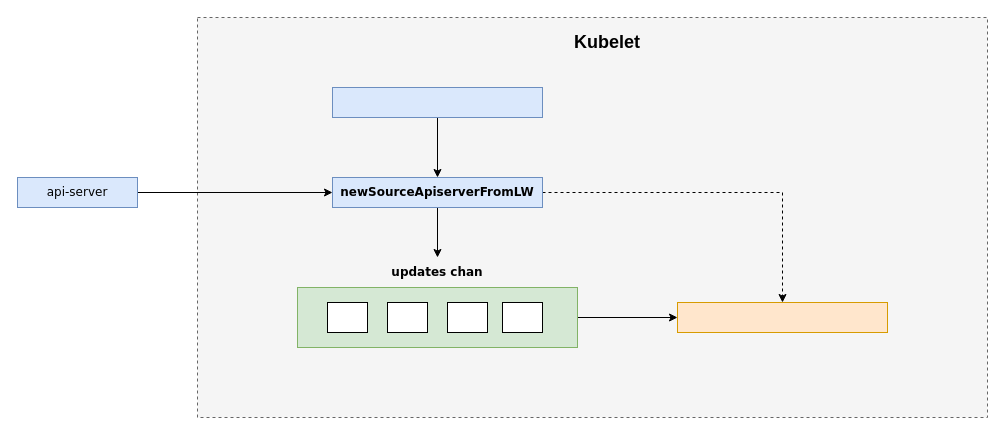
The diagram is 1005 pixels wide and 435 high, and some of its shapes have lost their labels. The centre of each missing label's shape, as x and y in pixels:
"NewSourceApiserver" belongs at (x=437, y=102).
"Run()" belongs at (x=782, y=317).
